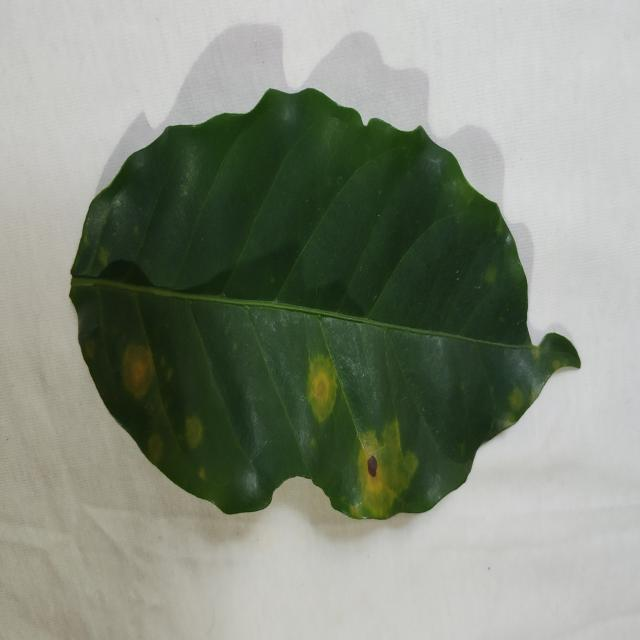Enfermedad-Roya: (69, 88, 582, 523)
